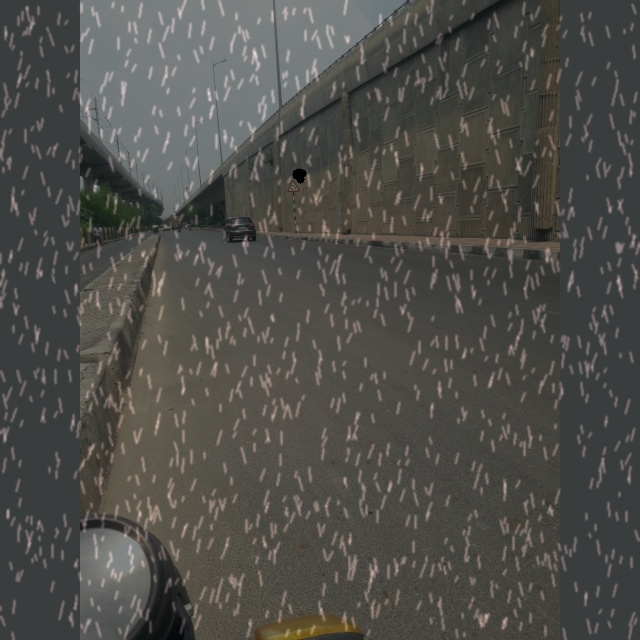Round_About: (279, 173, 307, 200)
